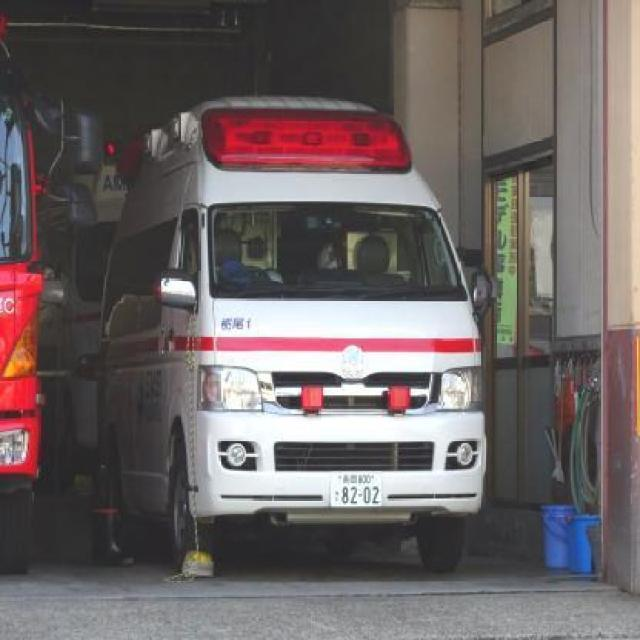emergency: (88, 93, 492, 575)
